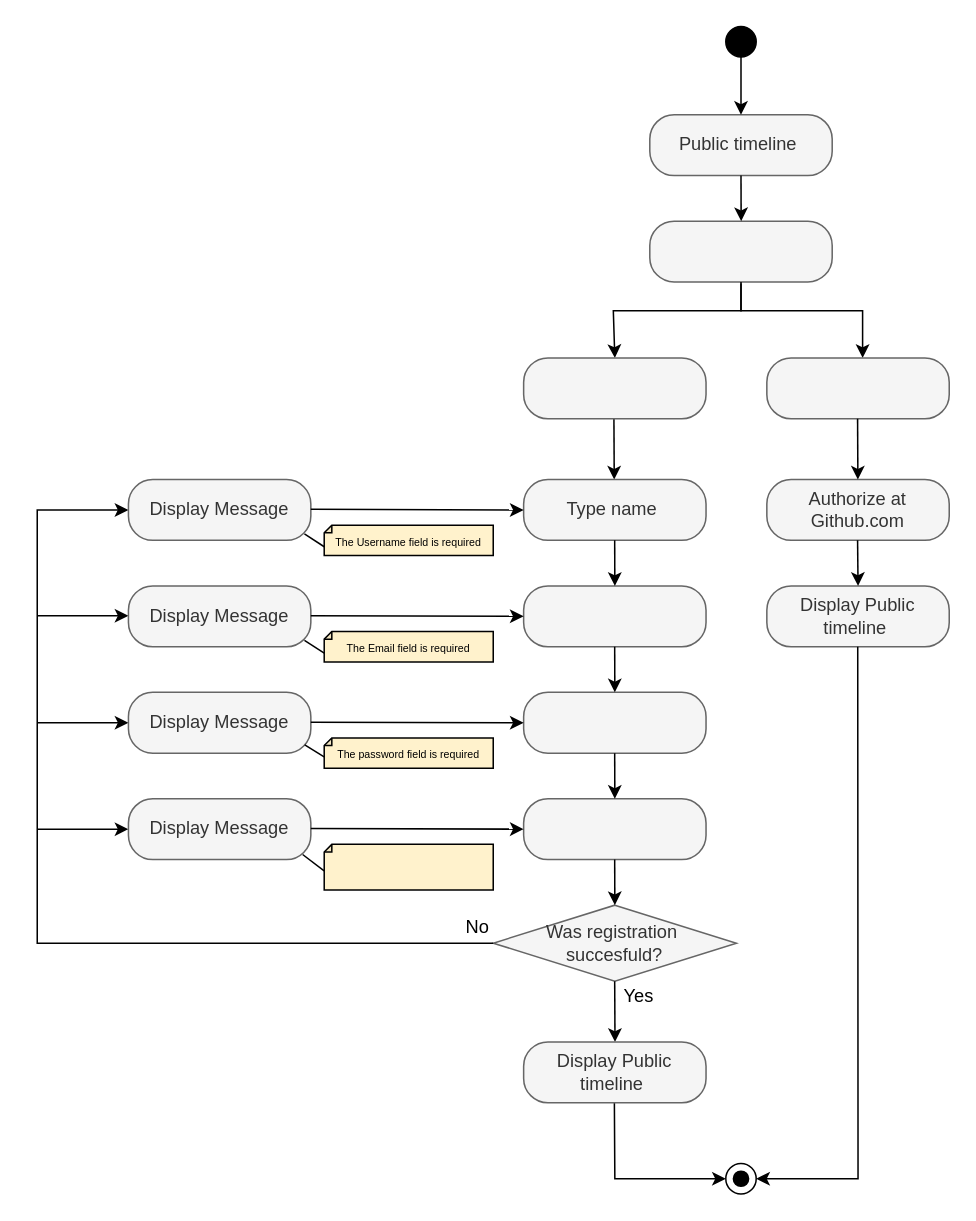
Some shapes in this 976 by 1221 pixel diagram are drawn without their labels. The shapes that lost their labels are listed below. From the top down, each one's centre as x and y in pixels, then its label:
point (740, 251): Register
point (614, 387): Create new account
point (857, 387): Use Github service to register
point (614, 615): Type email
point (614, 722): Type password
point (614, 828): Type identical password
point (408, 866): The password and confirmation password do not match
